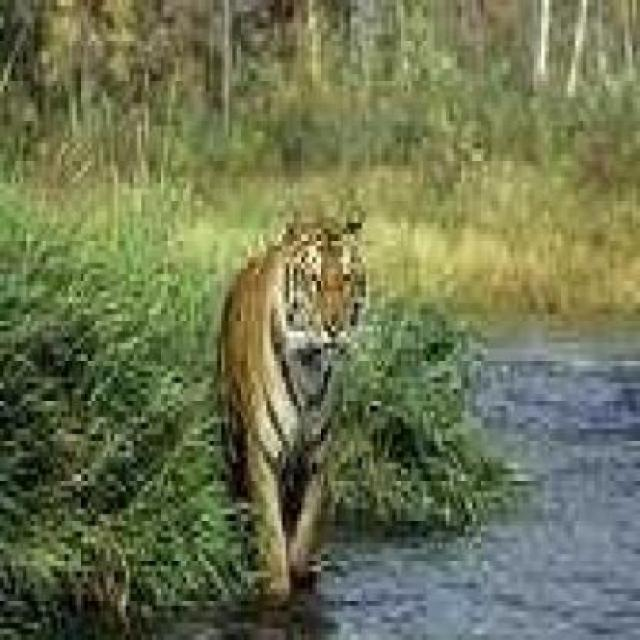Tiger: (166, 176, 397, 622)
